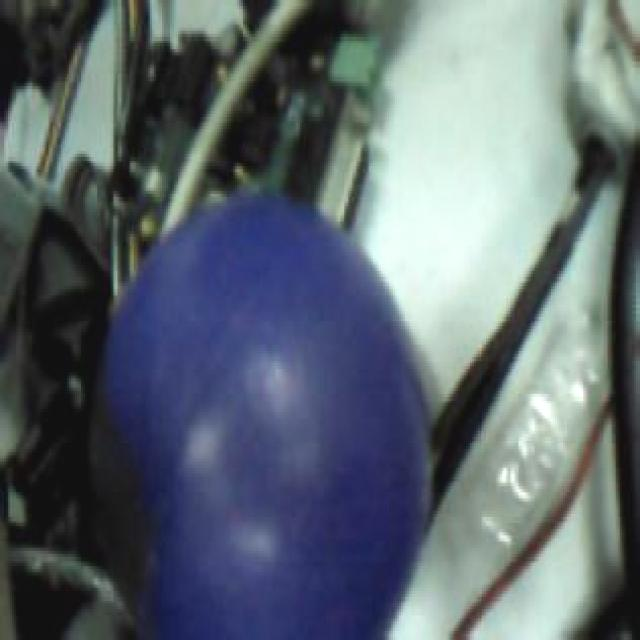BallPurple: (86, 193, 435, 640)
